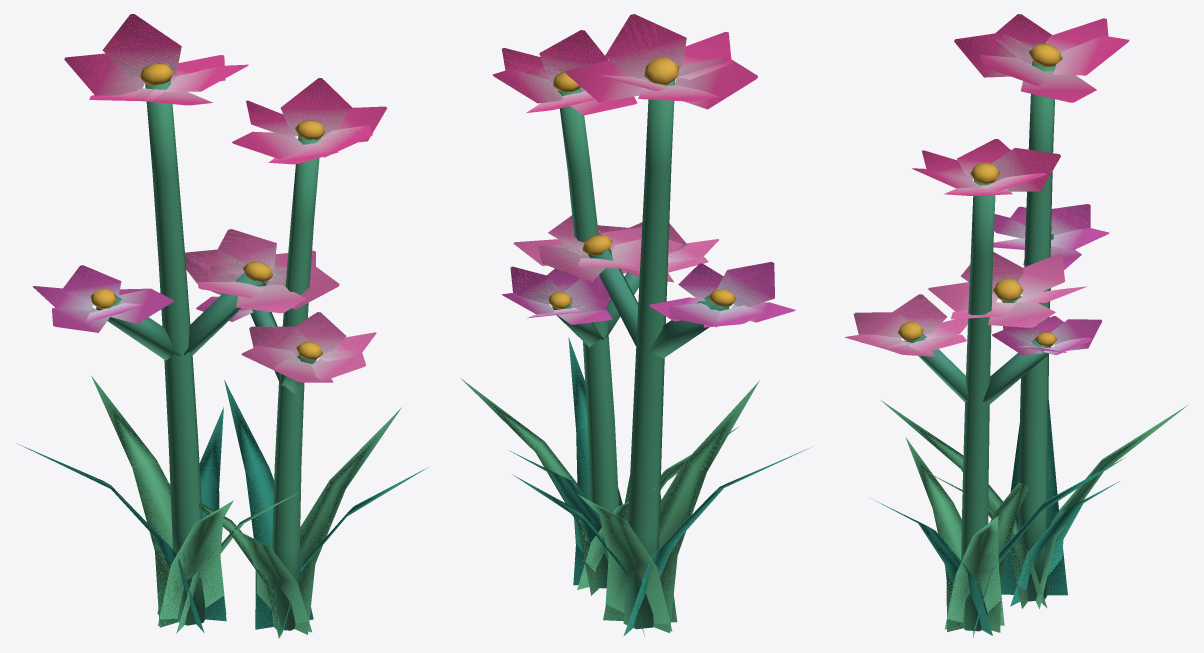
The model's file is verdant_flower_cosmos.glb.
3 renders of one model, left to right at view 1: azimuth 30°, elevation 25°; view 2: azimuth 150°, elevation 25°; view 3: azimuth 270°, elevation 25°, orthographic. The views are drawn at different scales.
Parts seen in each view (by area): view 1: verdant_flower_cosmos; view 2: verdant_flower_cosmos; view 3: verdant_flower_cosmos.
Boxes of the visible parts, left/top/right/bottom form: verdant_flower_cosmos: left=16, top=14, right=429, bottom=638; verdant_flower_cosmos: left=460, top=14, right=811, bottom=636; verdant_flower_cosmos: left=845, top=14, right=1187, bottom=637.
Size of the model in its own units: 0.7295 by 1.09 by 0.6154.
